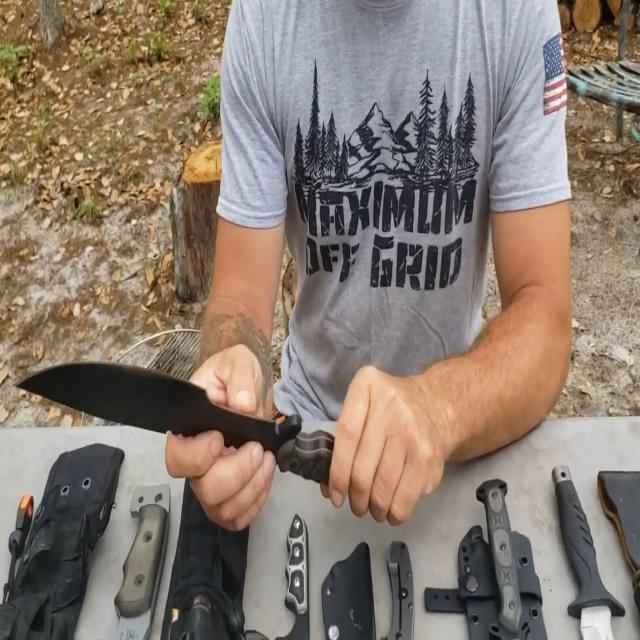knife: (9, 333, 396, 491)
